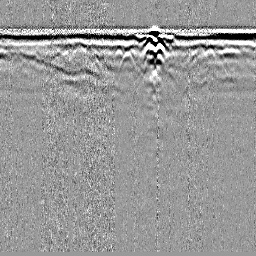cavity: (117, 50, 138, 72)
